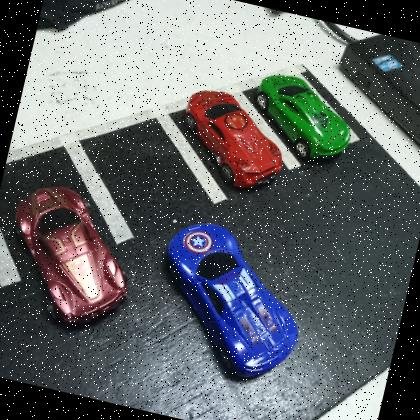Car: (140, 212, 320, 390), (0, 173, 147, 337), (170, 82, 296, 198), (243, 66, 362, 168)
